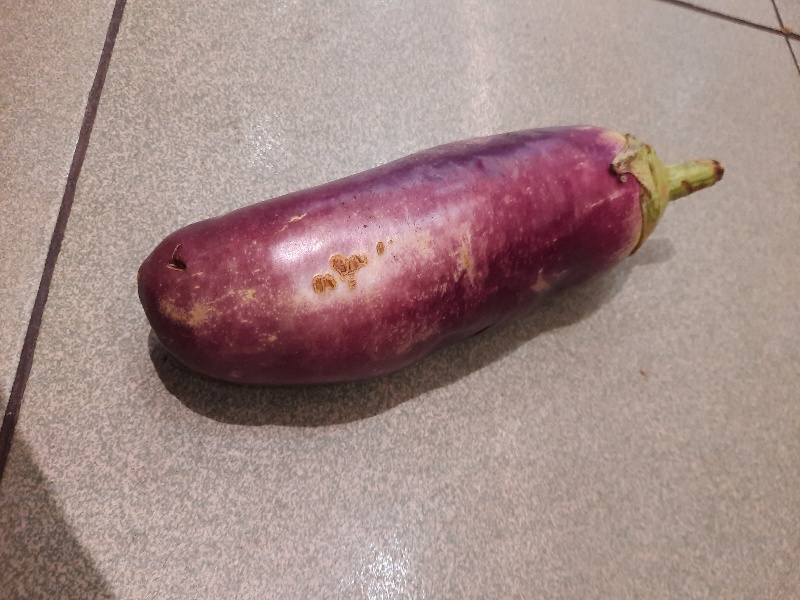vege: (122, 114, 727, 401)
